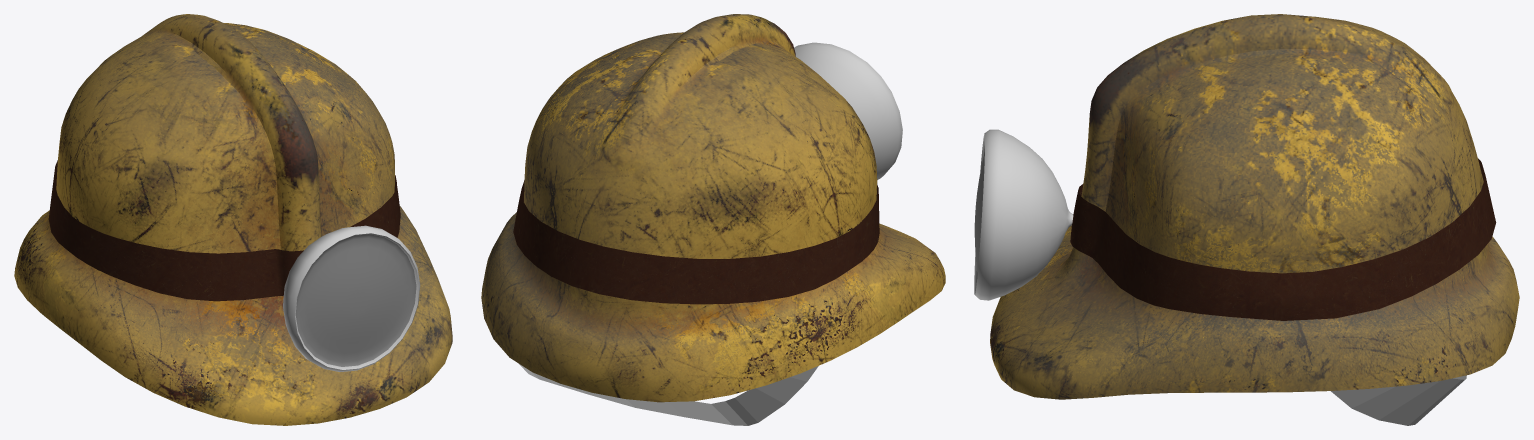
The model's file is Mining_assets.fbx.
3 renders of one model, left to right at view 1: azimuth 30°, elevation 25°; view 2: azimuth 150°, elevation 25°; view 3: azimuth 270°, elevation 25°, orthographic. The views are drawn at different scales.
Parts seen in each view (by area): view 1: Helmet; view 2: Helmet; view 3: Helmet.
Boxes of the visible parts, x1=… form: Helmet: x1=14, y1=14, x2=452, y2=425; Helmet: x1=481, y1=14, x2=945, y2=425; Helmet: x1=974, y1=14, x2=1519, y2=425.
Size of the model in its own units: 119 by 101 by 140.
